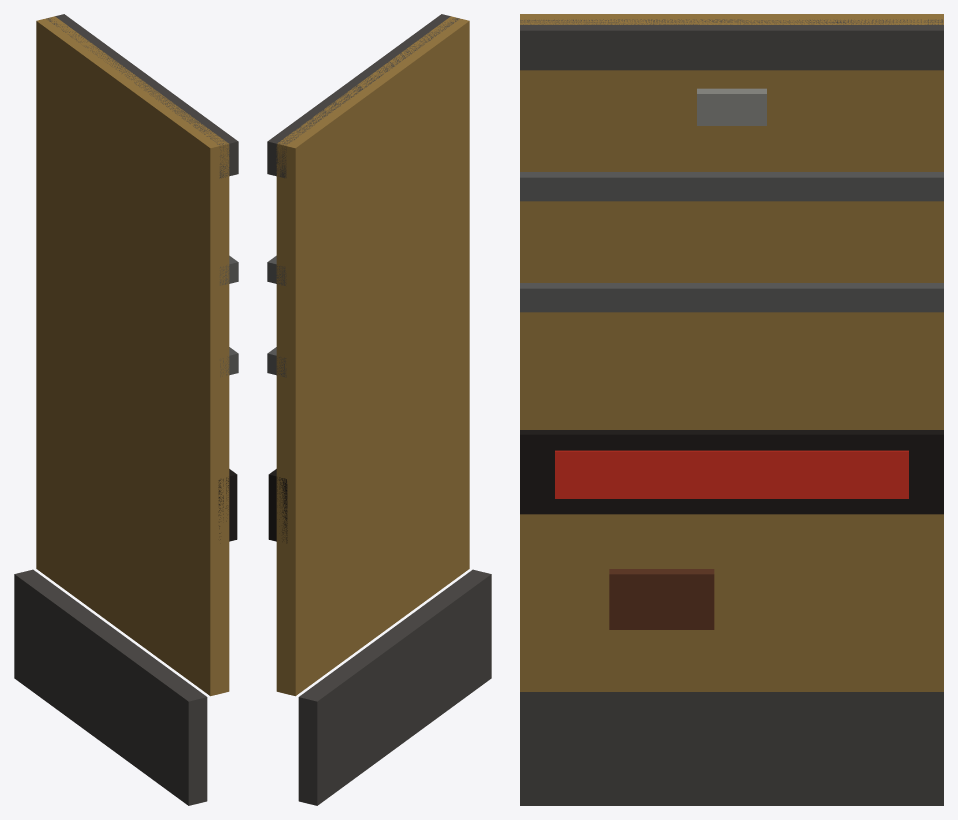
Rendered from tailgate.glb.
3 renders of one model, left to right at view 1: azimuth 30°, elevation 25°; view 2: azimuth 150°, elevation 25°; view 3: azimuth 270°, elevation 25°, orthographic. The views are drawn at different scales.
Visible parts, largest first — view 1: tailgate; view 2: tailgate; view 3: tailgate.
Boxes of the visible parts, left/top/right/bottom form: tailgate: left=14, top=14, right=238, bottom=805; tailgate: left=267, top=14, right=491, bottom=805; tailgate: left=520, top=14, right=943, bottom=805.
Size of the model in its own units: 0.08 by 1 by 0.484.
